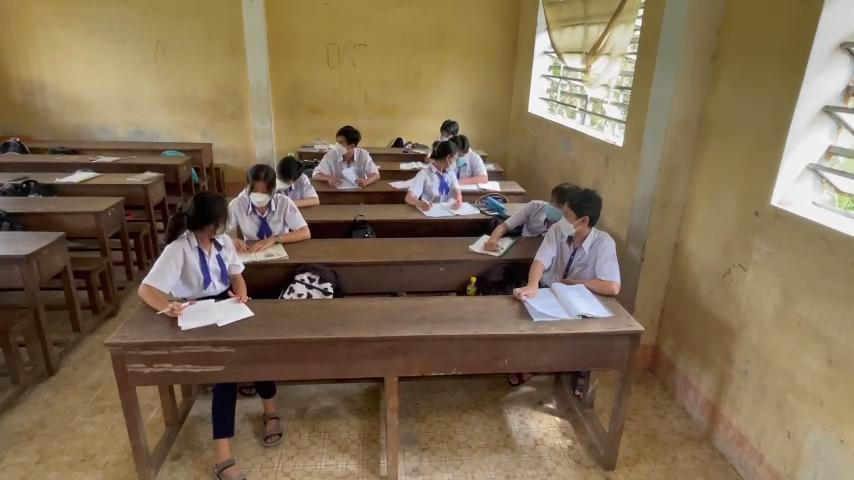Look Around: (169, 183, 232, 244), (549, 186, 606, 242), (322, 112, 379, 168), (415, 138, 459, 176)
